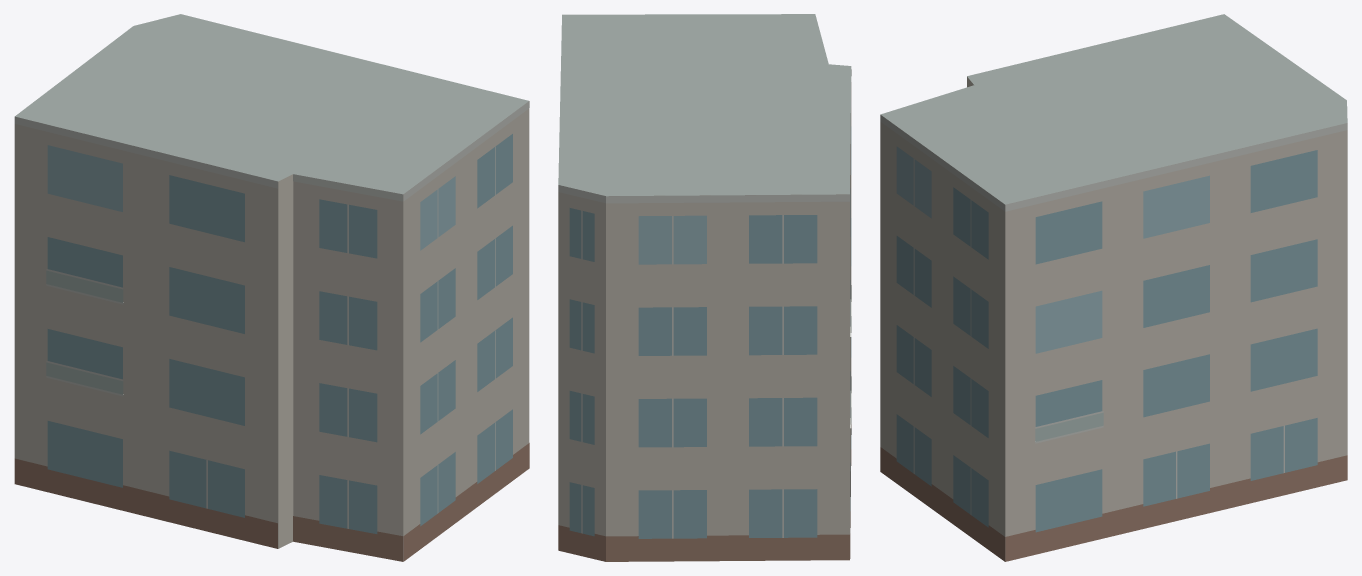
Rendered from survey-upis-32627258.glb.
3 renders of one model, left to right at view 1: azimuth 30°, elevation 25°; view 2: azimuth 150°, elevation 25°; view 3: azimuth 270°, elevation 25°, orthographic. The views are drawn at different scales.
Parts seen in each view (by area): view 1: survey-upis-32627258.tmp; view 2: survey-upis-32627258.tmp; view 3: survey-upis-32627258.tmp.
Boxes of the visible parts, x1,y1,x2,y2 form: survey-upis-32627258.tmp: (14,14,529,561); survey-upis-32627258.tmp: (558,14,851,561); survey-upis-32627258.tmp: (880,14,1347,561).
Bounding box in the file's own units: 14.09 × 12.3 × 14.59.
